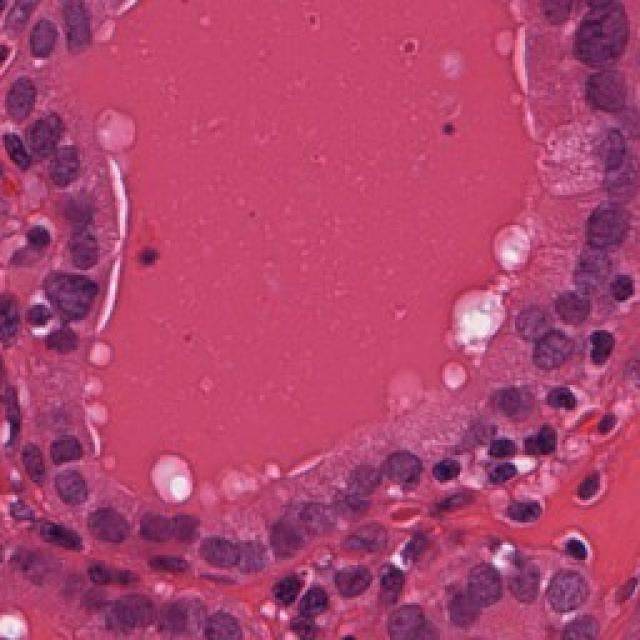abnormal: (18, 251, 118, 345), (568, 175, 640, 262), (538, 539, 598, 640), (543, 12, 640, 70), (87, 474, 141, 575), (375, 585, 445, 640), (507, 289, 557, 356)
